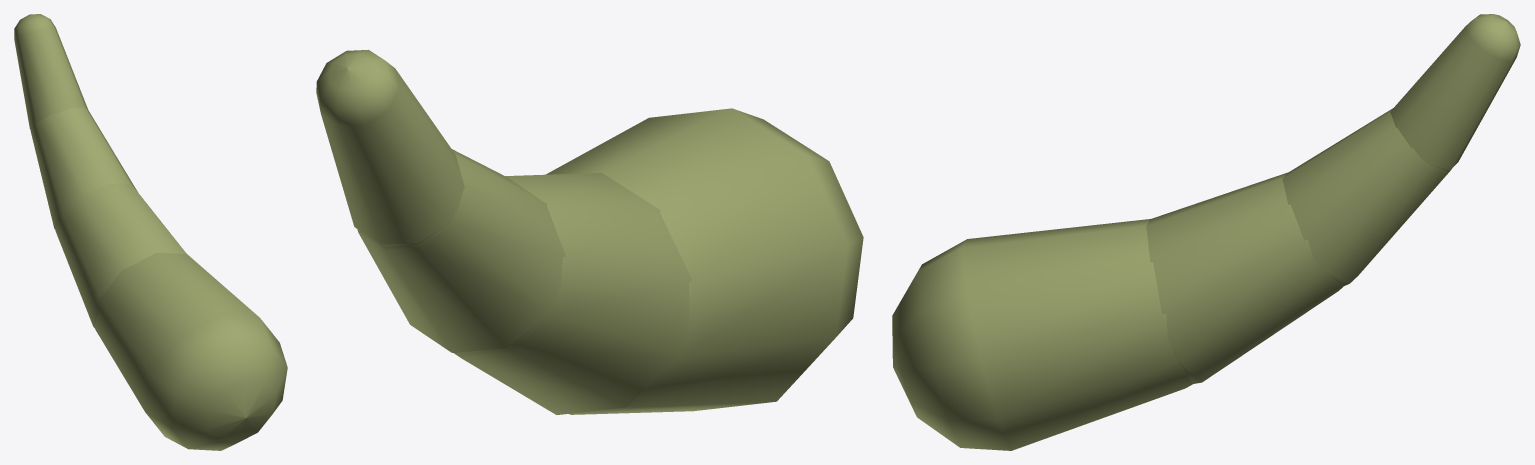
The model's file is tortoise_tail.glb.
3 views of the same model, side by side, from view 1: azimuth 30°, elevation 25°; view 2: azimuth 150°, elevation 25°; view 3: azimuth 270°, elevation 25° (orthographic). The views are drawn at different scales.
Parts seen in each view (by area): view 1: tortoise_tail_seg0_mesh, tortoise_tail_seg1_mesh, tortoise_tail_seg2_mesh, tortoise_tail_seg3_mesh; view 2: tortoise_tail_seg0_mesh, tortoise_tail_seg1_mesh, tortoise_tail_seg2_mesh, tortoise_tail_seg3_mesh; view 3: tortoise_tail_seg0_mesh, tortoise_tail_seg1_mesh, tortoise_tail_seg2_mesh, tortoise_tail_seg3_mesh.
Part boxes in pixels (x1,y1,x2,y2): tortoise_tail_seg0_mesh: (95, 252, 287, 450); tortoise_tail_seg1_mesh: (55, 183, 186, 327); tortoise_tail_seg2_mesh: (30, 106, 137, 229); tortoise_tail_seg3_mesh: (14, 14, 88, 129); tortoise_tail_seg0_mesh: (546, 108, 863, 414); tortoise_tail_seg1_mesh: (454, 173, 691, 414); tortoise_tail_seg2_mesh: (357, 149, 565, 353); tortoise_tail_seg3_mesh: (316, 49, 464, 246); tortoise_tail_seg0_mesh: (892, 219, 1192, 450); tortoise_tail_seg1_mesh: (1146, 172, 1343, 383); tortoise_tail_seg2_mesh: (1282, 108, 1451, 285); tortoise_tail_seg3_mesh: (1390, 14, 1520, 171).
Bounding box in the file's own units: 0.0571 × 0.1275 × 0.1706.
